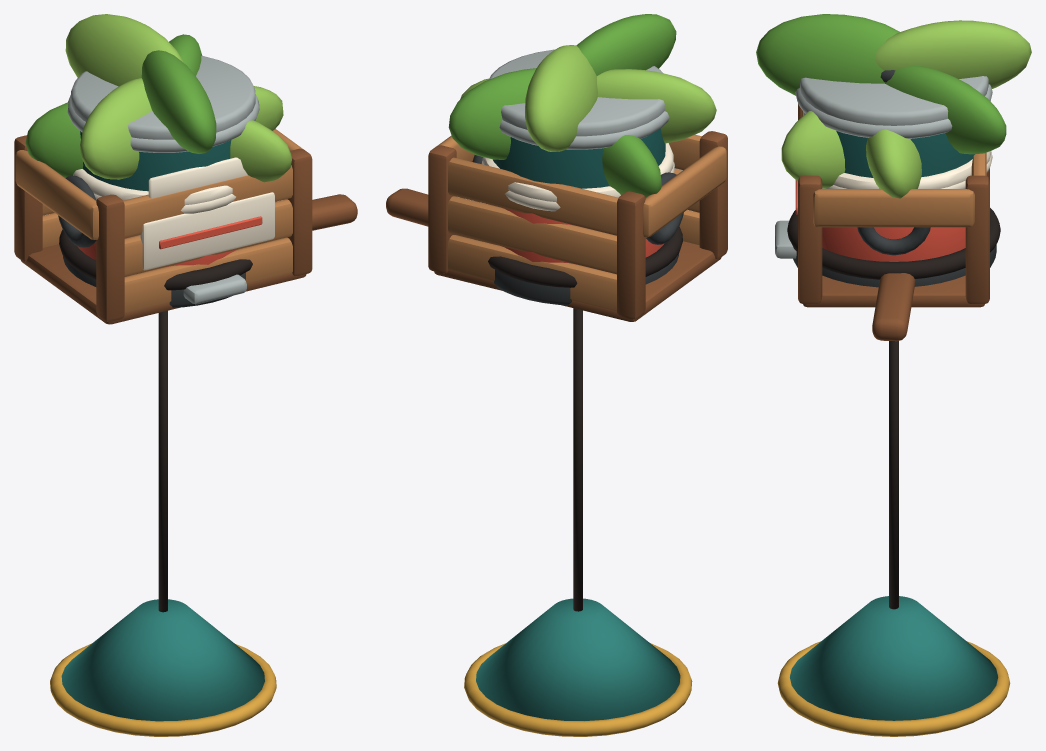
Rendered from props.glb.
The picture shows the model from 3 angles, left to right: view 1: azimuth 30°, elevation 25°; view 2: azimuth 150°, elevation 25°; view 3: azimuth 270°, elevation 25°; orthographic projection. The views are drawn at different scales.
Parts seen in each view (by area): view 1: Crate, PendantLamp, Plant, TrashBin, Pan, Pot; view 2: Crate, PendantLamp, Plant, TrashBin, Pan, Pot; view 3: Plant, PendantLamp, Crate, TrashBin, Pan, Pot.
Part boxes in pixels (x1,y1,x2,y2): Crate: [14, 129, 312, 324]; PendantLamp: [50, 310, 276, 736]; Plant: [25, 14, 291, 182]; TrashBin: [67, 56, 259, 304]; Pan: [59, 194, 357, 307]; Pot: [58, 169, 238, 267]; Crate: [428, 131, 727, 321]; PendantLamp: [464, 308, 692, 736]; Plant: [448, 14, 716, 197]; TrashBin: [489, 49, 669, 188]; Pan: [386, 188, 682, 305]; Pot: [472, 143, 683, 264]; Plant: [756, 14, 1031, 198]; PendantLamp: [777, 341, 1010, 736]; Crate: [795, 103, 989, 307]; TrashBin: [775, 70, 992, 258]; Pan: [787, 208, 1000, 341]; Pot: [822, 151, 992, 261].
Bounding box in the file's own units: 1.3 × 2.79 × 1.02.
